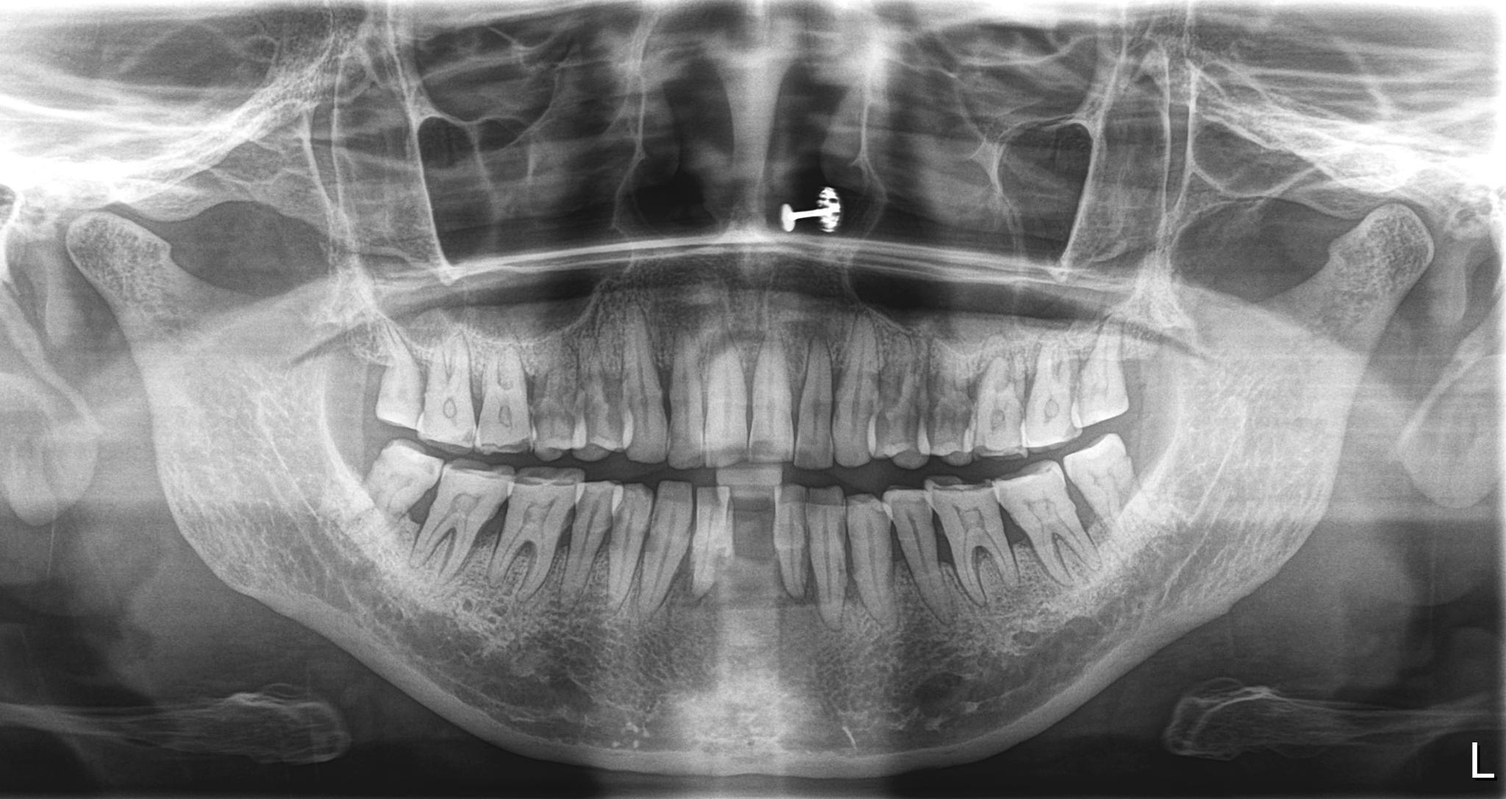Impacted Third Molar: (342, 443, 439, 537), (1069, 435, 1161, 533)
Missing Tooth: (729, 484, 775, 584)
